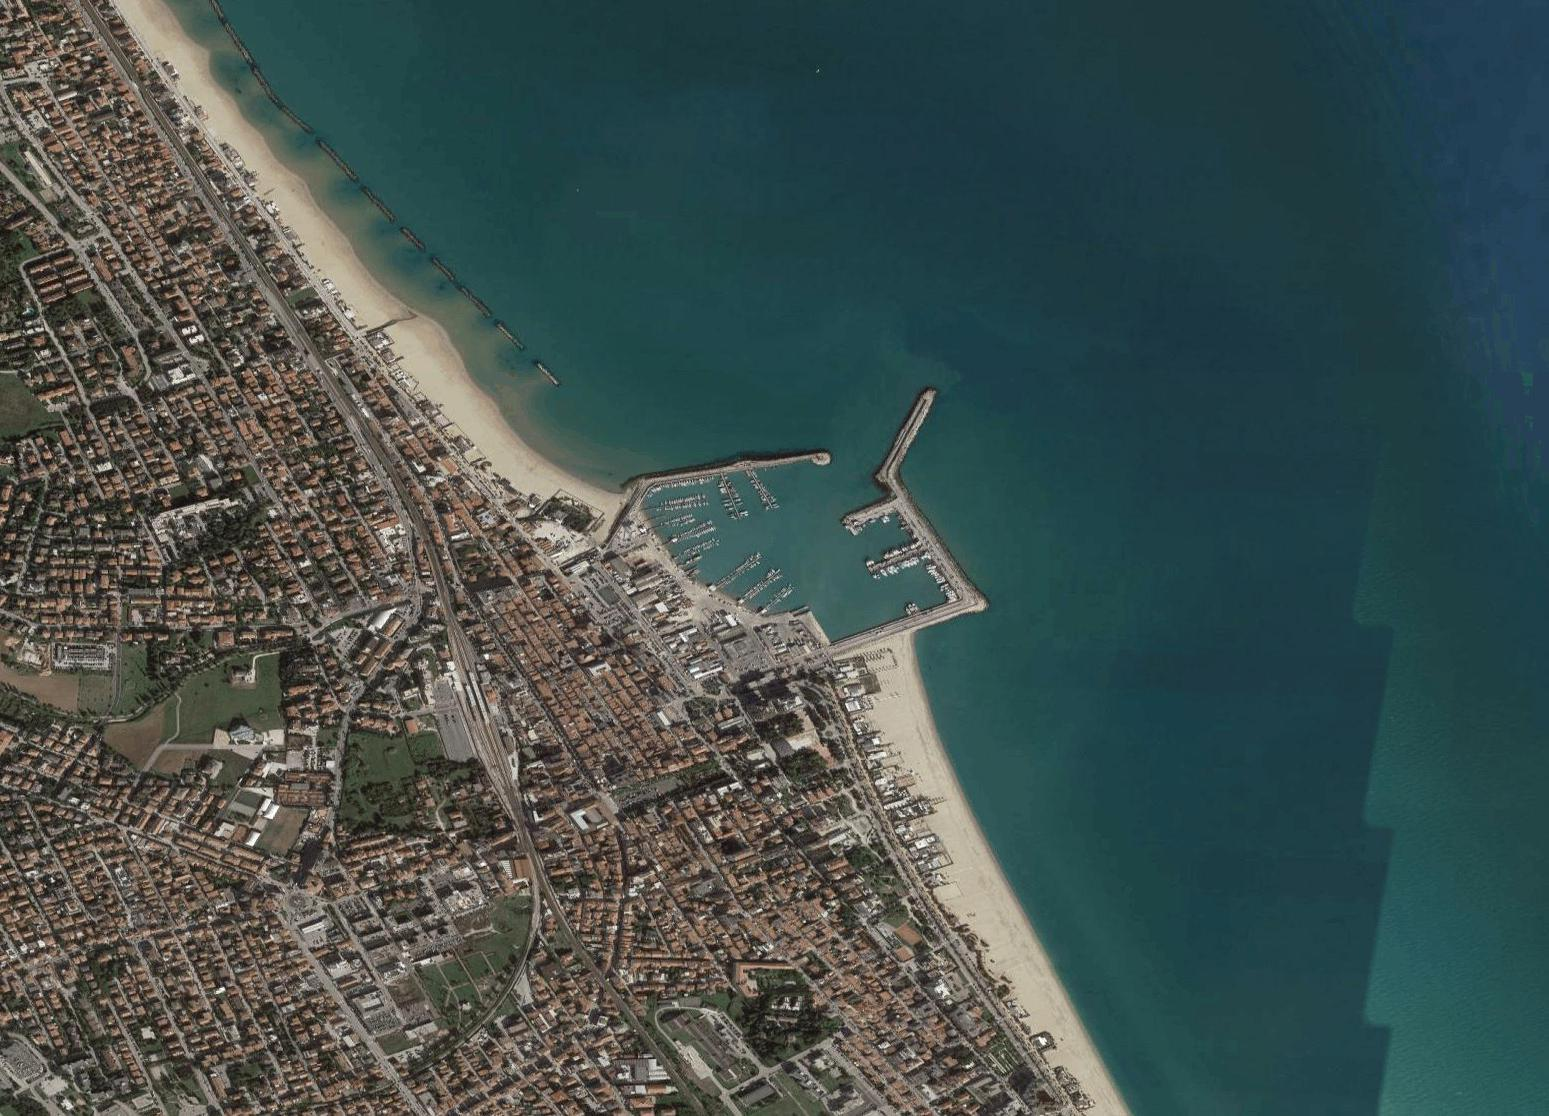harbor: (610, 356, 1005, 691)
train_station: (433, 664, 520, 788)
